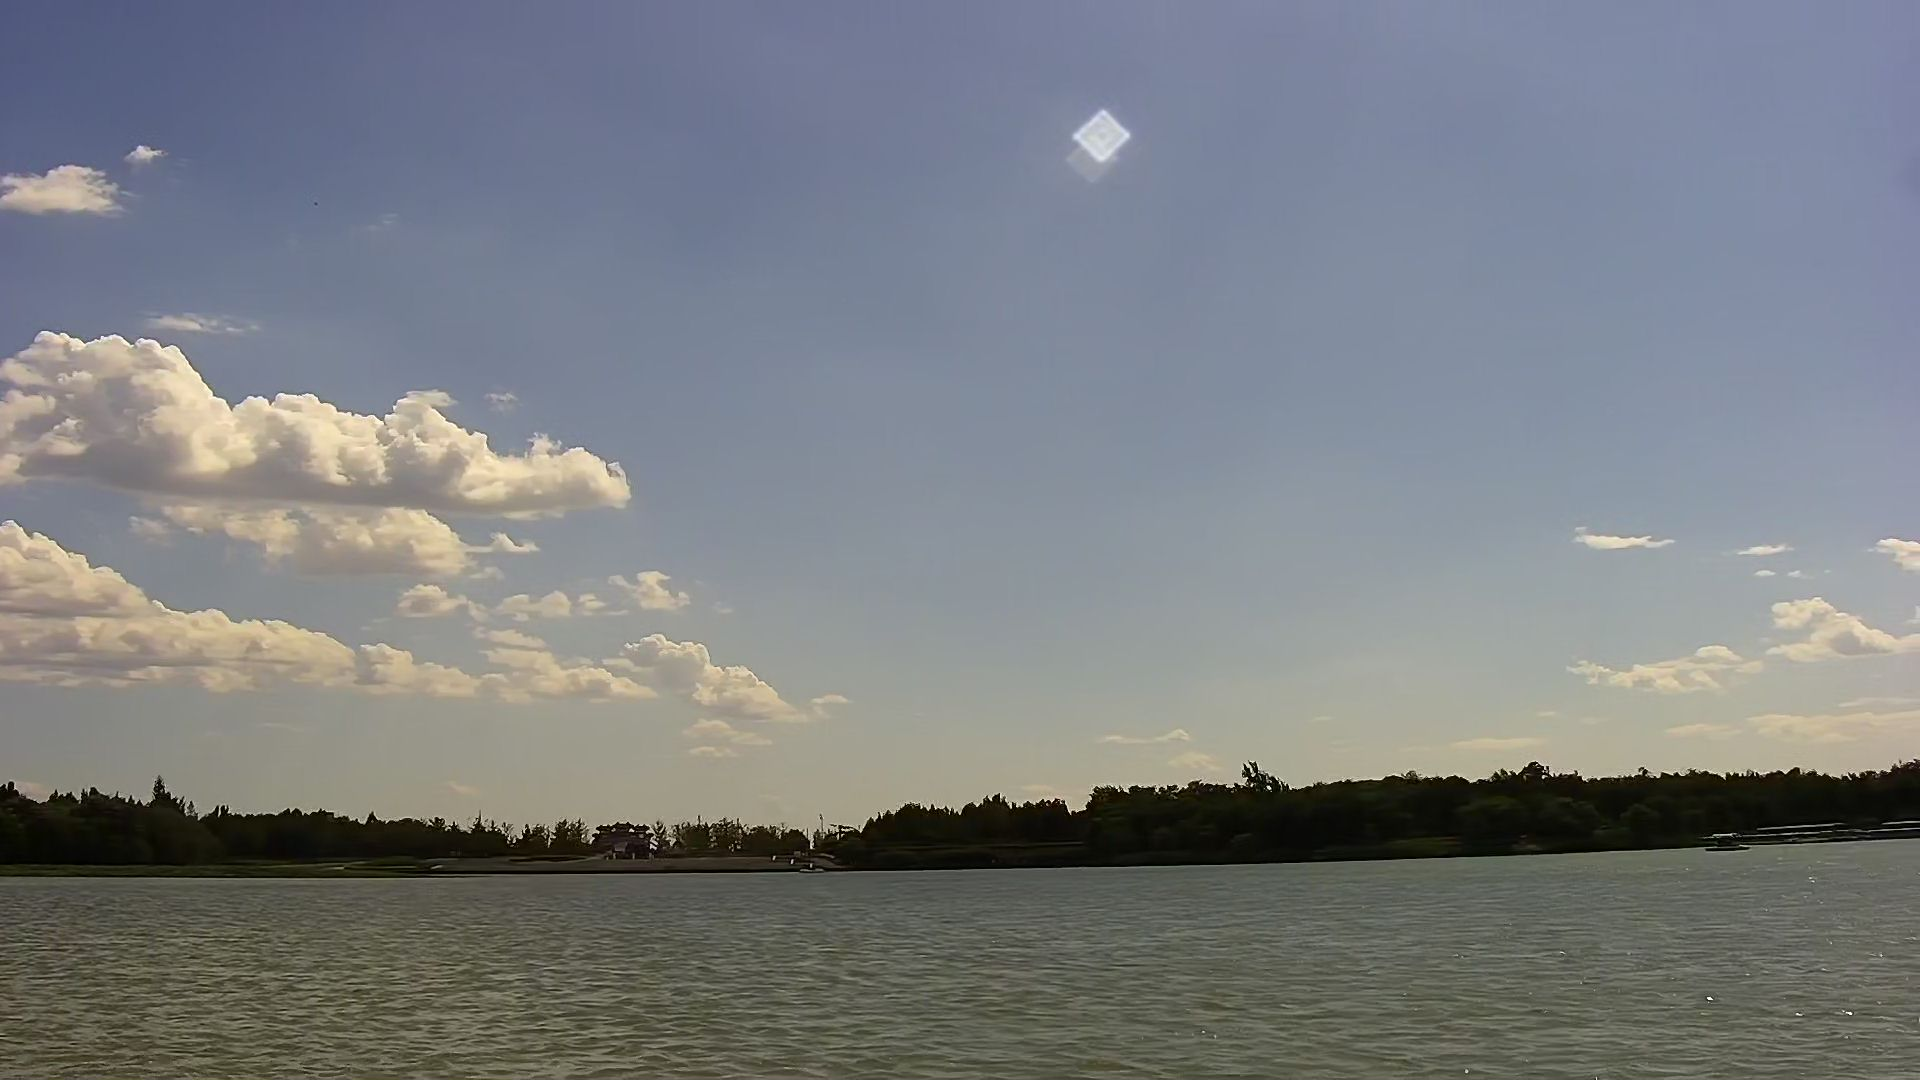boat: (1701, 831, 1745, 851)
harbor: (1739, 816, 1920, 844)
